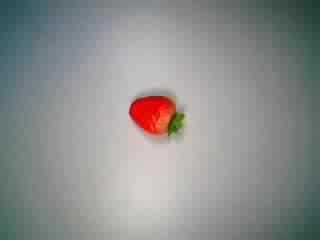strawberry: (122, 84, 188, 146)
